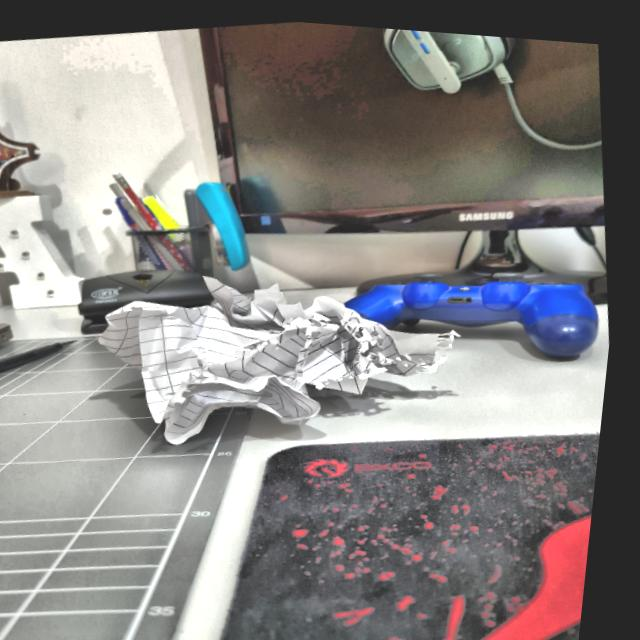Paper: (95, 257, 441, 458)
